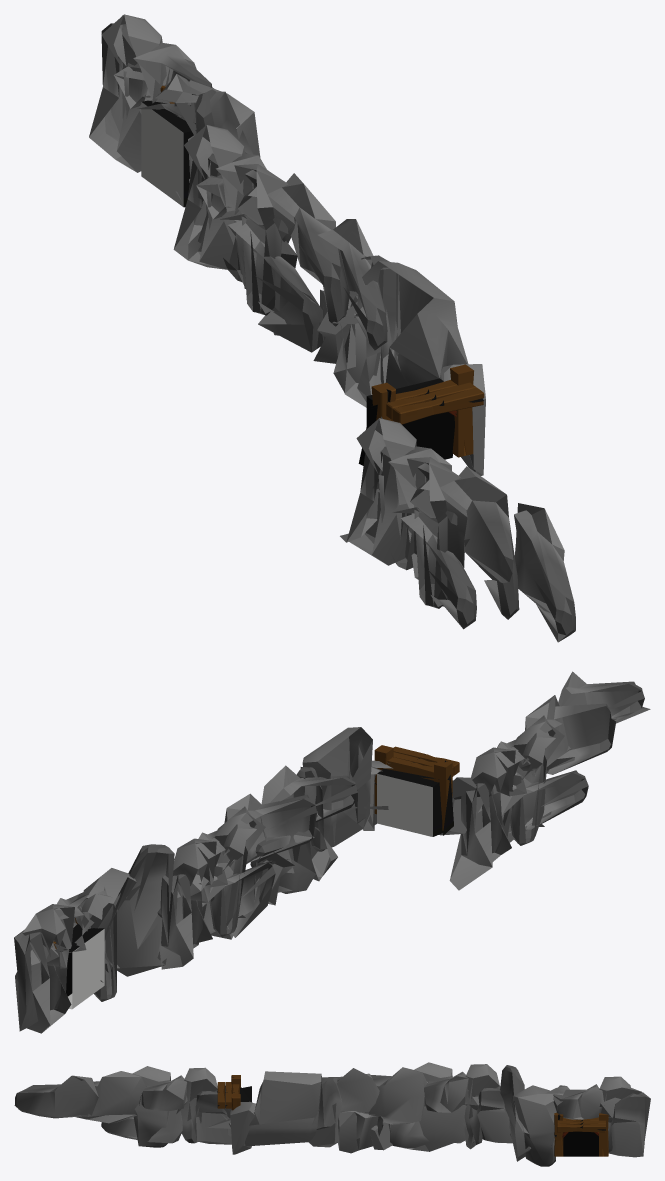
The model's file is EntradaMina.glb.
The picture shows the model from 3 angles, top to bottom: view 1: azimuth 30°, elevation 25°; view 2: azimuth 150°, elevation 25°; view 3: azimuth 270°, elevation 25°; orthographic projection. The views are drawn at different scales.
Visible parts, largest first — view 1: EntradaMina; view 2: EntradaMina; view 3: EntradaMina.
Boxes of the visible parts, <box> form: EntradaMina: <box>89,14,575,642</box>; EntradaMina: <box>14,671,650,1033</box>; EntradaMina: <box>14,1062,650,1166</box>.
Bounding box in the file's own units: 8.75 × 7.74 × 40.26.
1 material, 1 textured.
